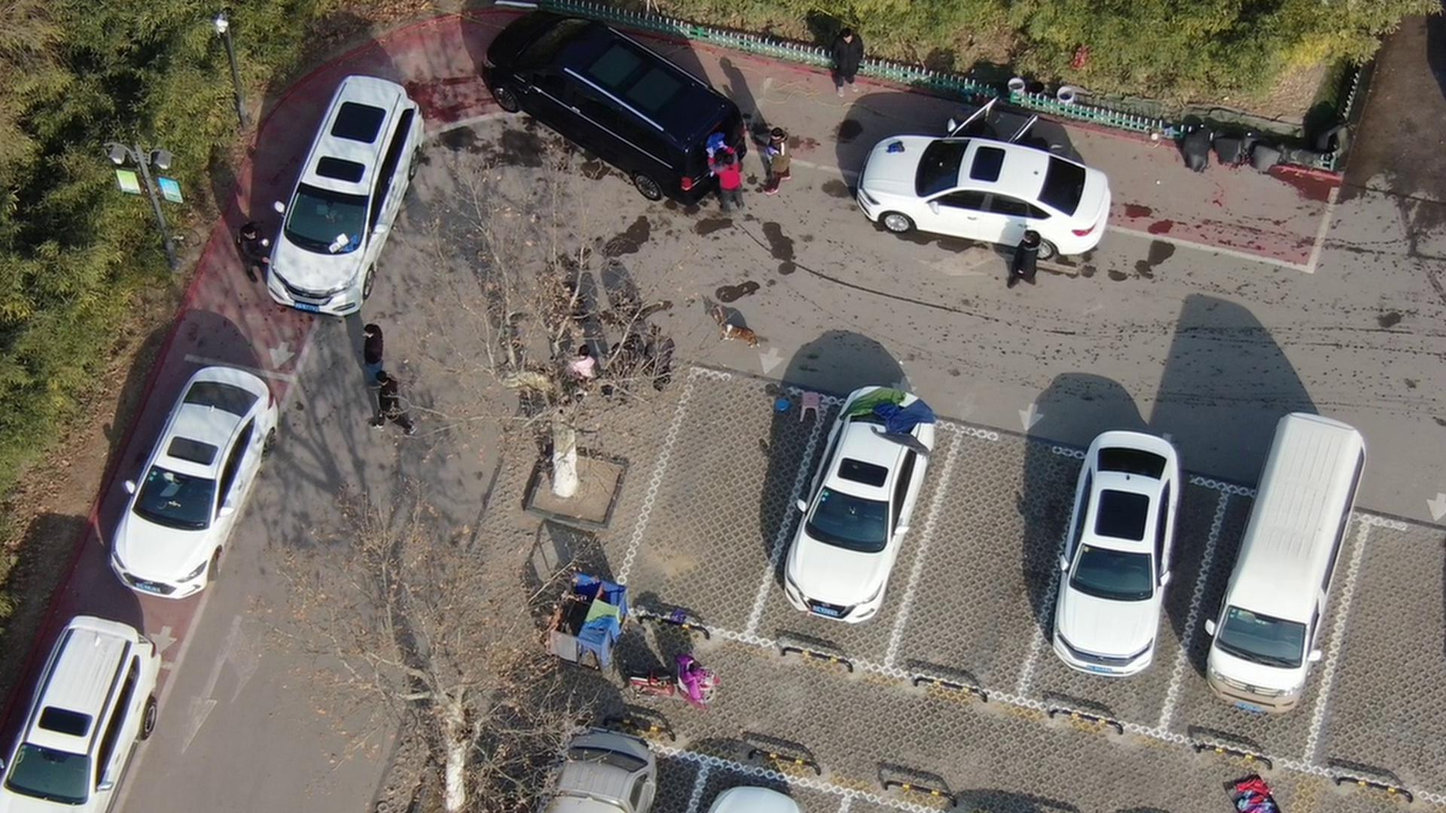human: (374, 365, 425, 436), (642, 321, 683, 396), (838, 20, 877, 98), (717, 136, 753, 220), (1008, 224, 1051, 293), (769, 121, 802, 196), (243, 218, 278, 285), (605, 335, 637, 403), (364, 318, 391, 383)
